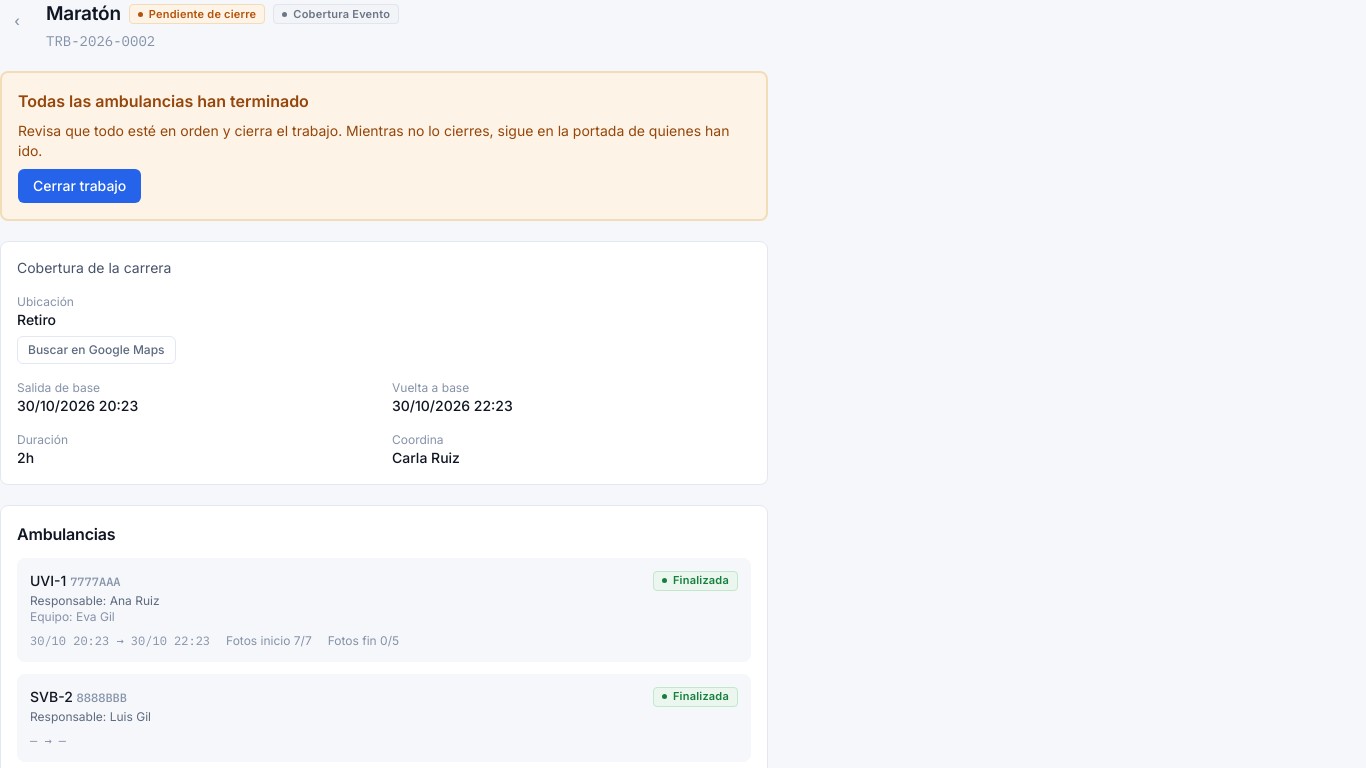
it: TrabajoDetail › pendiente de cierre: el coordinador lo cierra tras confirmar (D3)
Click the button "Cerrar trabajo". click: point(80, 186)
box: [18,168,141,202]
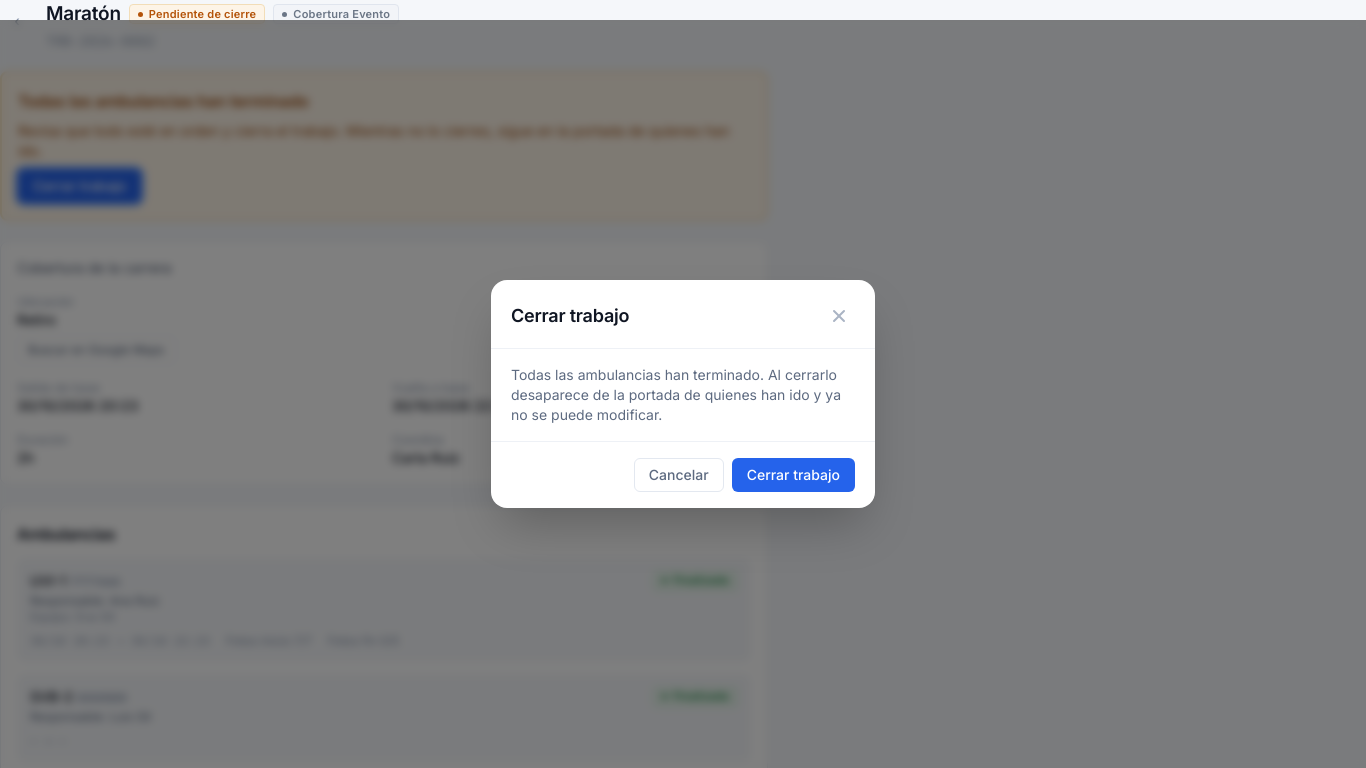
Expected: the text "Al cerrarlo desaparece de la portada" is shown, [511,366,841,423]
Click the button "Cerrar trabajo". click: point(793, 475)
box: [732,458,855,492]
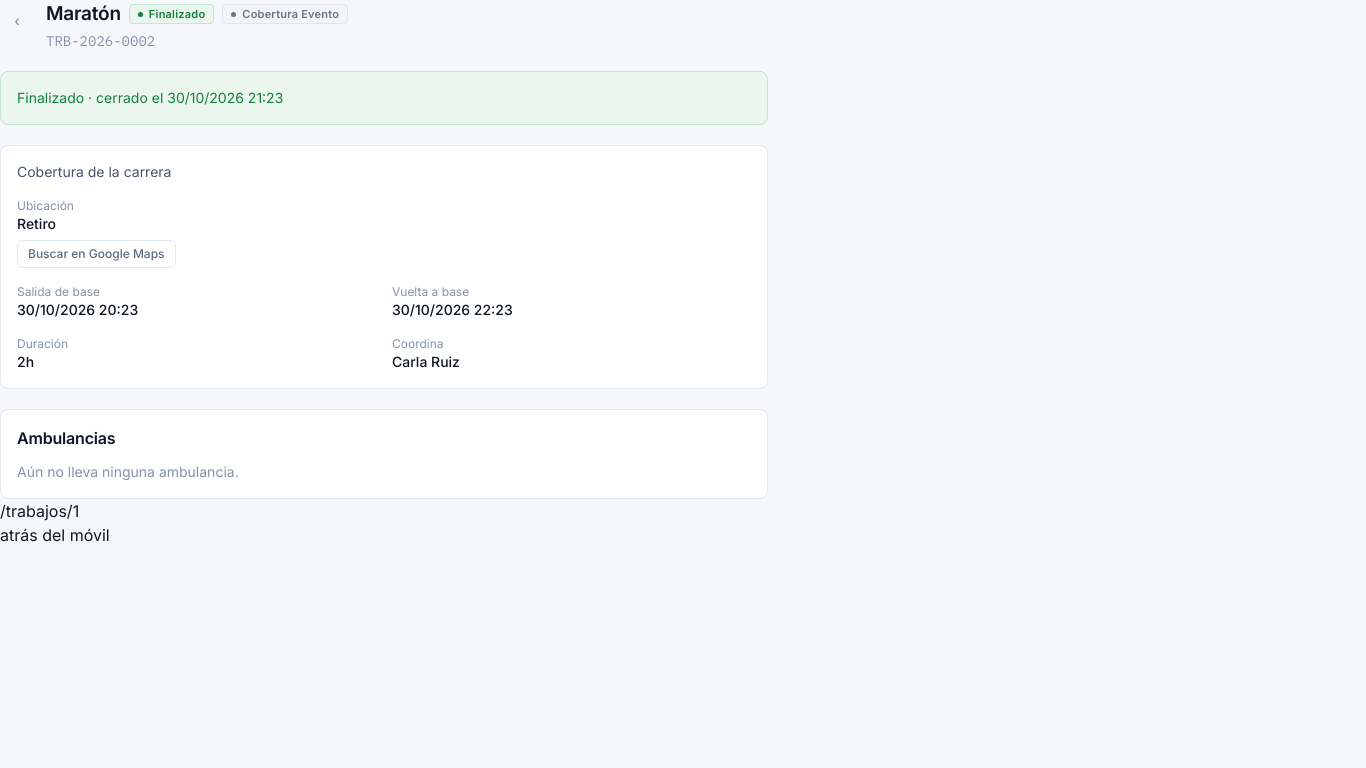
Expected: the text "Finalizado · cerrado el 30/10/2026 21:23" is shown, [0,70,768,124]
